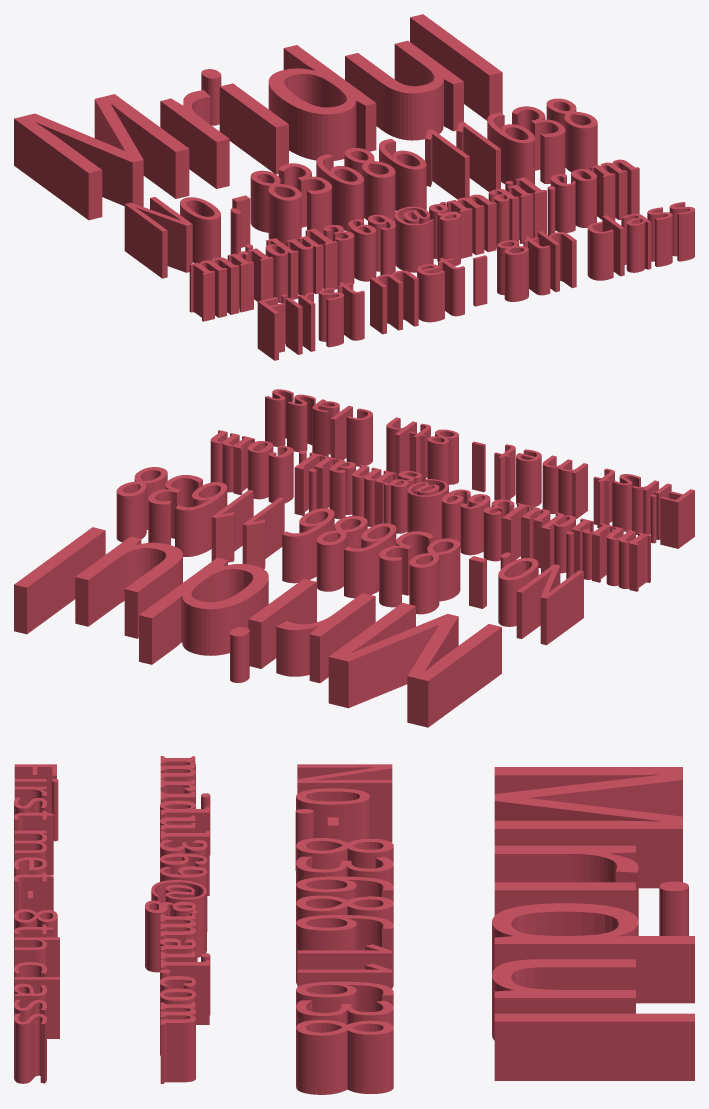
The model's file is info1.glb.
3 views of the same model, one above another, from view 1: azimuth 30°, elevation 25°; view 2: azimuth 150°, elevation 25°; view 3: azimuth 270°, elevation 25° (orthographic). The views are drawn at different scales.
Visible parts, largest first — view 1: Mesh_Mesh_head_geo.001_lambert2SG.001; view 2: Mesh_Mesh_head_geo.001_lambert2SG.001; view 3: Mesh_Mesh_head_geo.001_lambert2SG.001.
Part boxes in pixels (left/top/right/bottom): Mesh_Mesh_head_geo.001_lambert2SG.001: left=14, top=14, right=694, bottom=360; Mesh_Mesh_head_geo.001_lambert2SG.001: left=14, top=389, right=694, bottom=727; Mesh_Mesh_head_geo.001_lambert2SG.001: left=14, top=756, right=694, bottom=1094.
Size of the model in its own units: 101 by 10 by 104.
